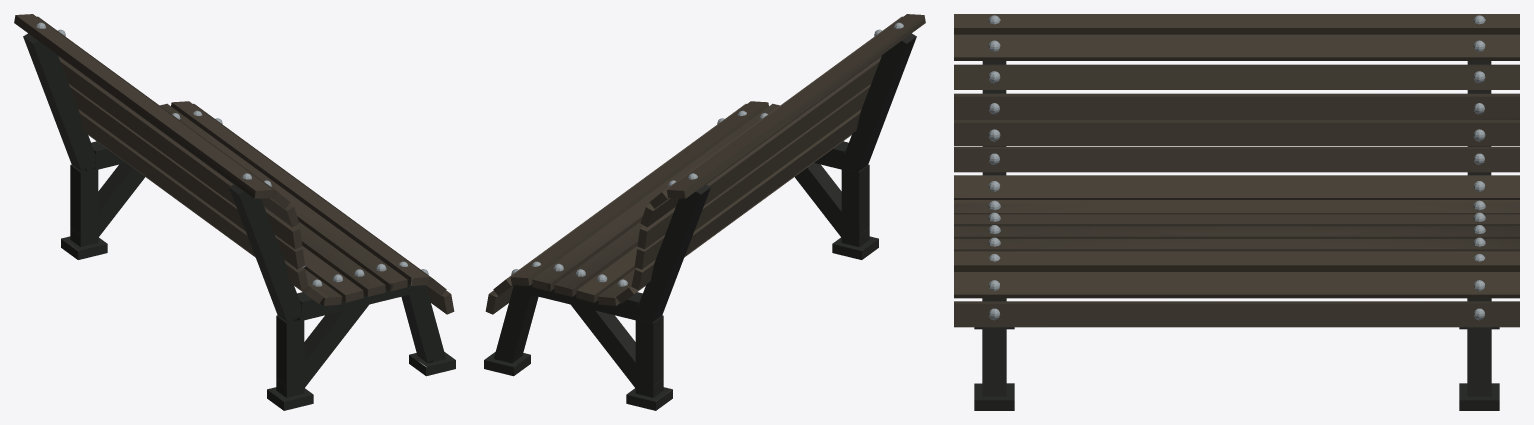
Rendered from Bench.obj.
3 views of the same model, side by side, from view 1: azimuth 30°, elevation 25°; view 2: azimuth 150°, elevation 25°; view 3: azimuth 270°, elevation 25° (orthographic). The views are drawn at different scales.
Parts seen in each view (by area): view 1: Cube.031; view 2: Cube.031; view 3: Cube.031.
Part boxes in pixels (x1=…): Cube.031: x1=14, y1=14, x2=455, y2=410; Cube.031: x1=484, y1=14, x2=925, y2=410; Cube.031: x1=954, y1=14, x2=1519, y2=410.
Size of the model in its own units: 3.59 by 3.82 by 7.
